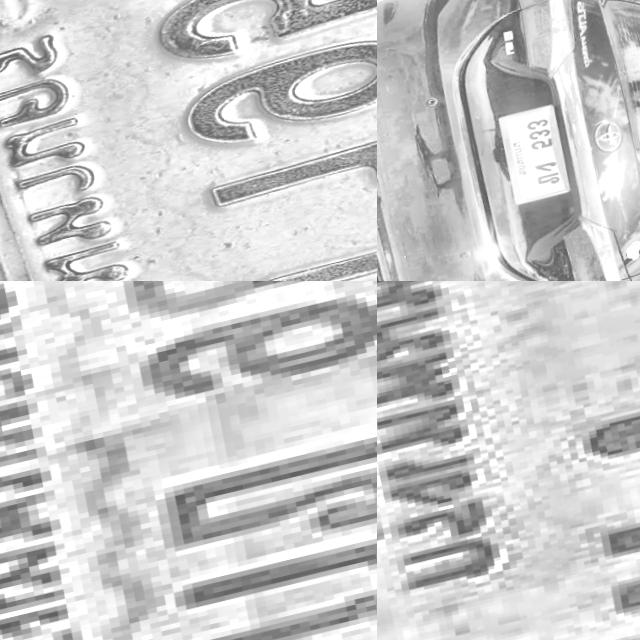license-plate: (0, 281, 377, 640), (0, 0, 377, 281), (377, 281, 640, 640), (491, 98, 584, 210)
